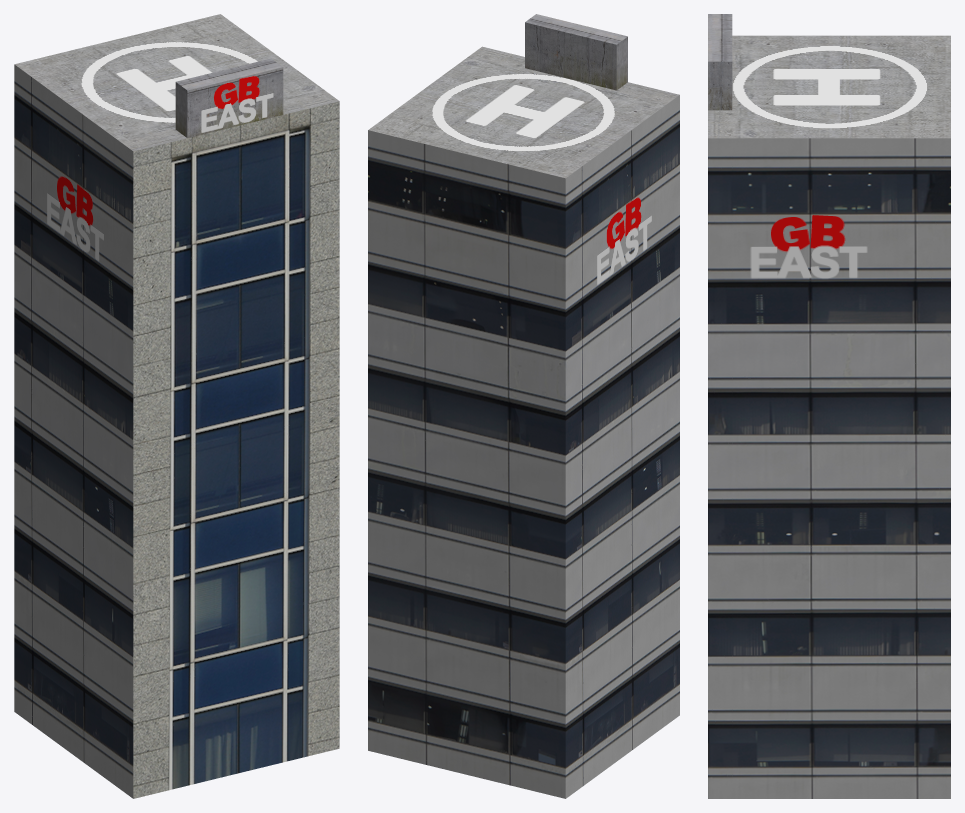
The model's file is SM_HomeBase.fbx.
3 renders of one model, left to right at view 1: azimuth 30°, elevation 25°; view 2: azimuth 150°, elevation 25°; view 3: azimuth 270°, elevation 25°, orthographic. The views are drawn at different scales.
Visible parts, largest first — view 1: pCube1; view 2: pCube1; view 3: pCube1.
Part boxes in pixels (x1,y1,x2,y2): pCube1: (14,14,339,798); pCube1: (368,14,679,798); pCube1: (708,14,950,798).
Size of the model in its own units: 80 by 258 by 80.
1 material, 1 textured.
